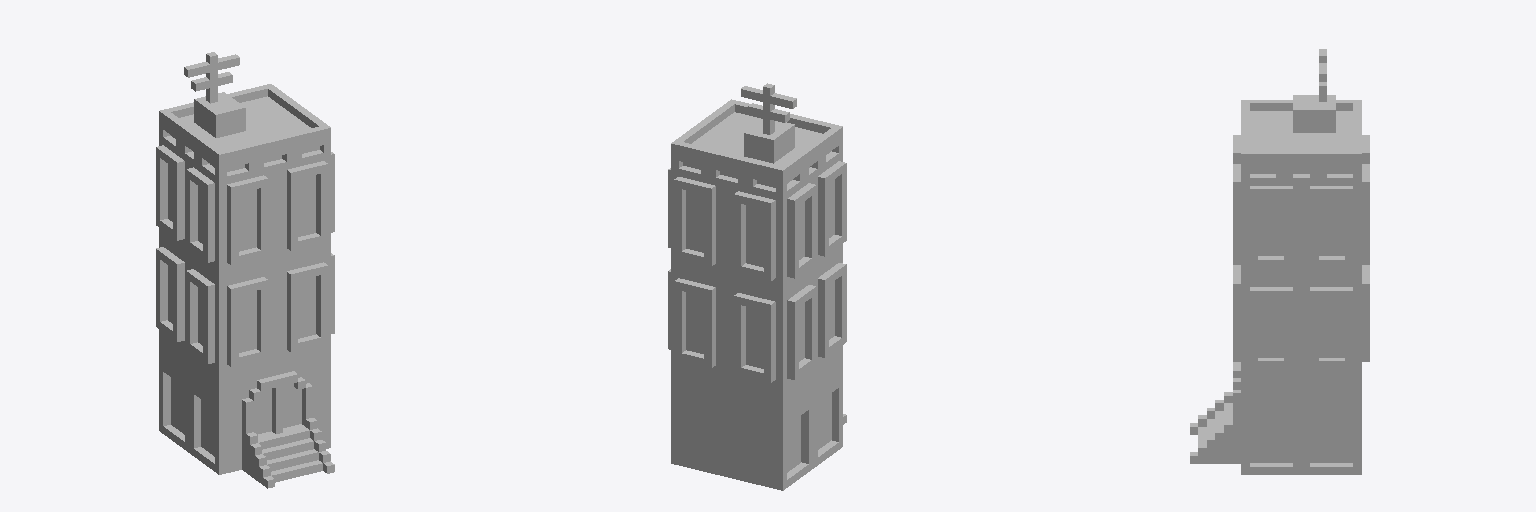
Rendered from building1.obj.
The picture shows the model from 3 angles: view 1: azimuth 30°, elevation 25°; view 2: azimuth 150°, elevation 25°; view 3: azimuth 270°, elevation 25°; orthographic projection.
Parts seen in each view (by area): view 1: object 1; view 2: object 1; view 3: object 1.
Part boxes in pixels (x1,y1,x2,y2): object 1: (156,52,334,488); object 1: (668,83,846,490); object 1: (1190,49,1369,474).
Size of the model in its own units: 1.7 by 4.9 by 2.1.